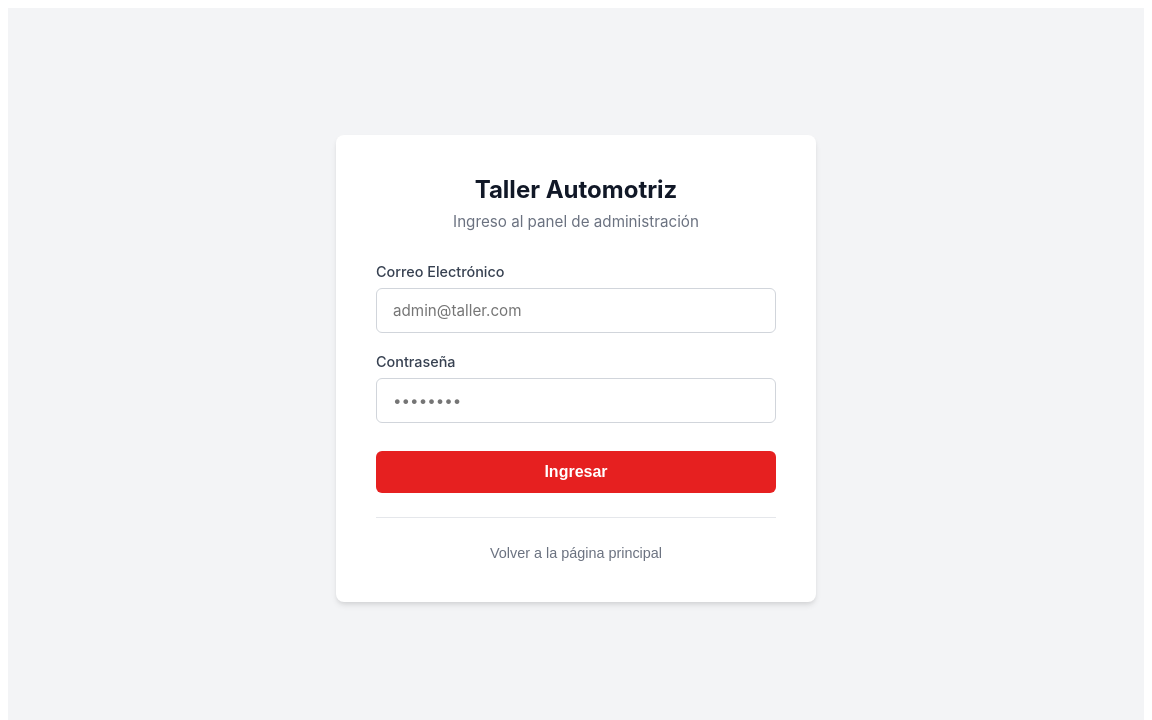
Test case: Login Page › debe mostrar el mensaje de error en pantalla cuando el login falla
The width and height of the screenshot is (1152, 720).
Type "wrong@test.com" into the field labelled "Correo Electrónico" at (576, 310), box x1=376 y1=288 x2=776 y2=332
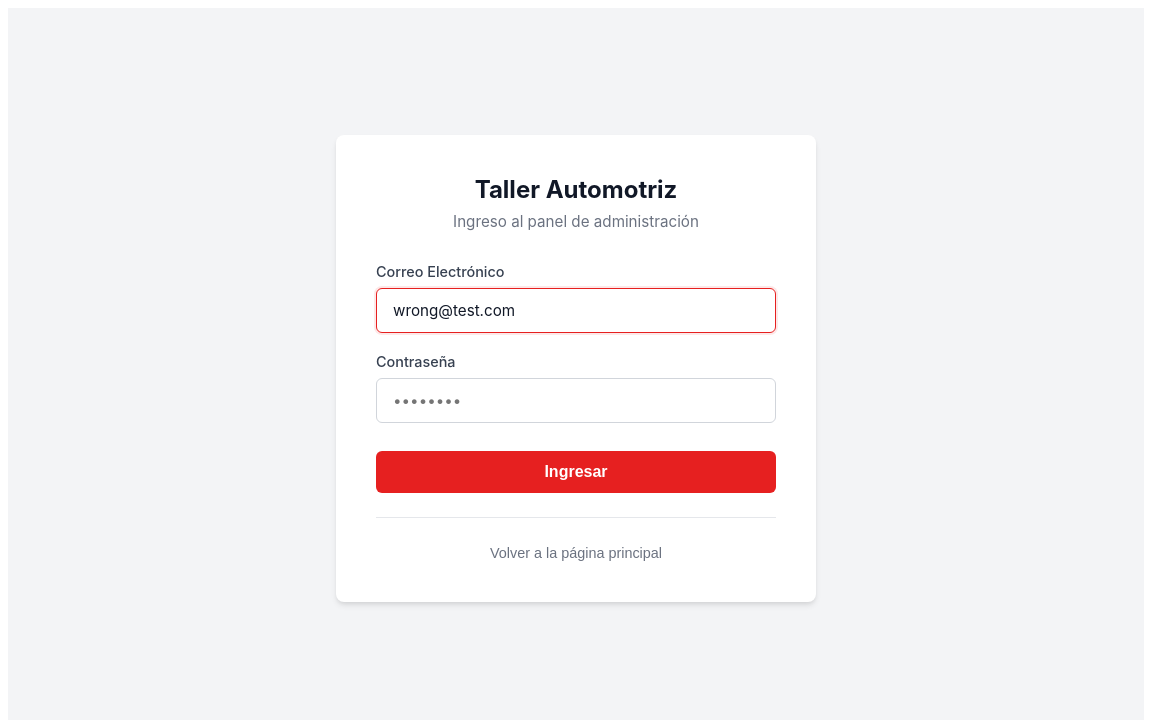
Type "wrongpassword" into the password field labelled "Contraseña" at (576, 400), box x1=376 y1=378 x2=776 y2=422
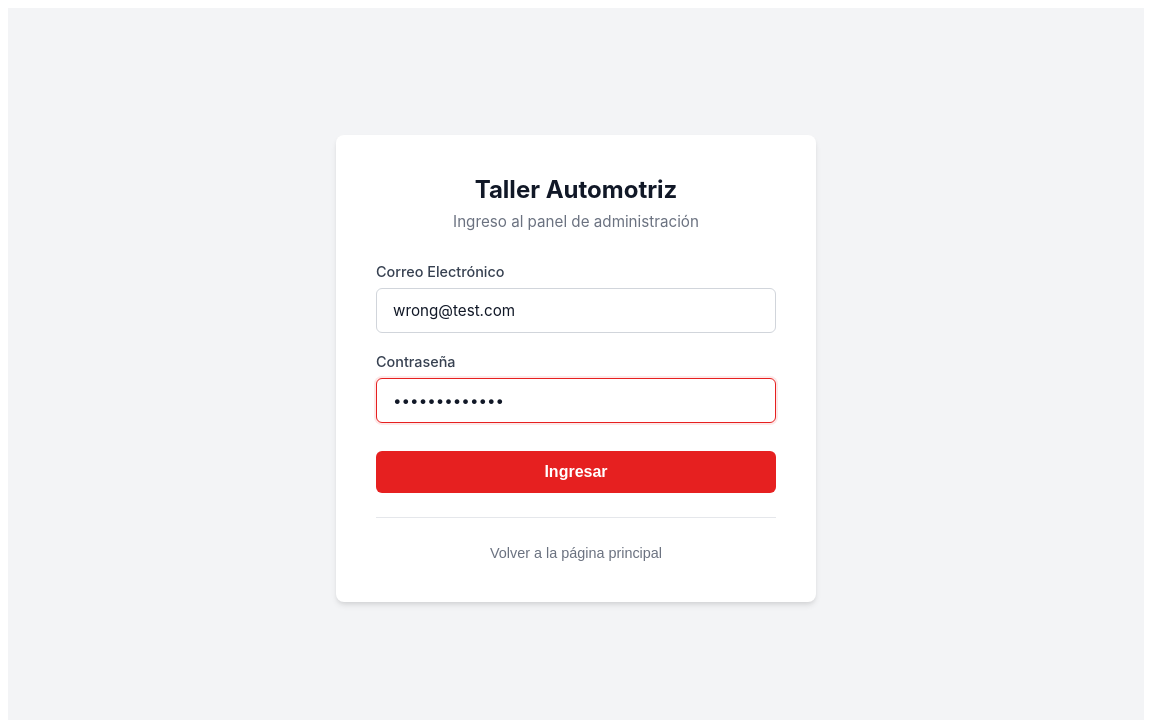
Click the button "Ingresar" at (576, 472), box x1=376 y1=450 x2=776 y2=492
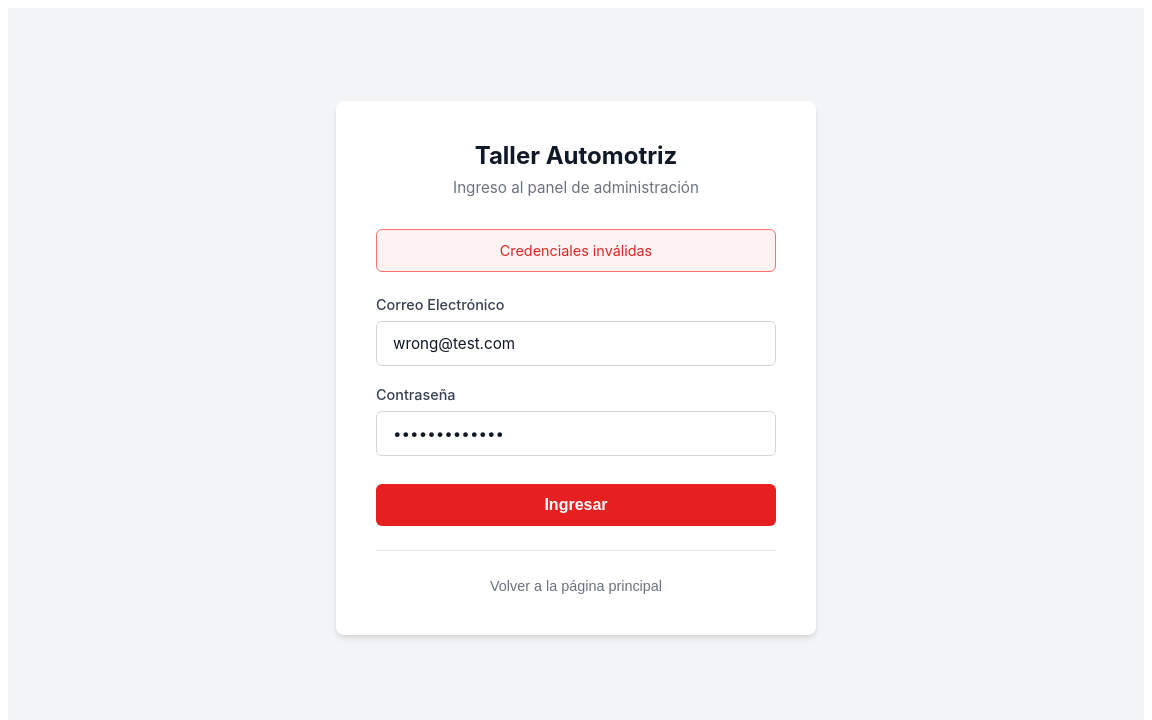
Check: the text "Credenciales inválidas" is shown, box x1=376 y1=229 x2=776 y2=272
